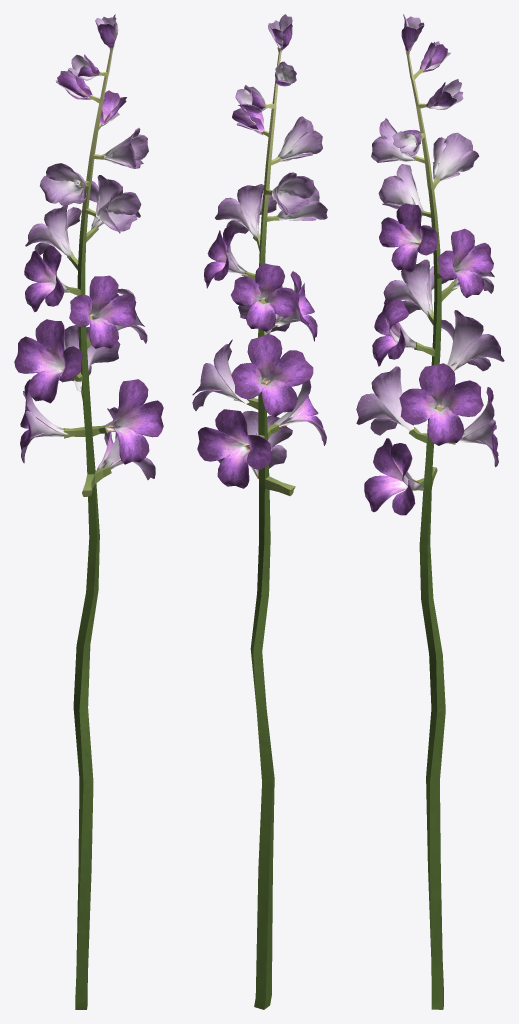
Rendered from SM_Dauphinelle.fbx.
3 views of the same model, side by side, from view 1: azimuth 90°, elevation 25°; view 2: azimuth 150°, elevation 25°; view 3: azimuth 270°, elevation 25° (orthographic).
Parts seen in each view (by area): view 1: SM_Dauphinelle; view 2: SM_Dauphinelle; view 3: SM_Dauphinelle.
Boxes of the visible parts, x1=… form: SM_Dauphinelle: x1=14, y1=14, x2=163, y2=1009; SM_Dauphinelle: x1=192, y1=14, x2=327, y2=1009; SM_Dauphinelle: x1=356, y1=14, x2=504, y2=1009.
Size of the model in its own units: 0.0243 by 0.195 by 0.0265.
